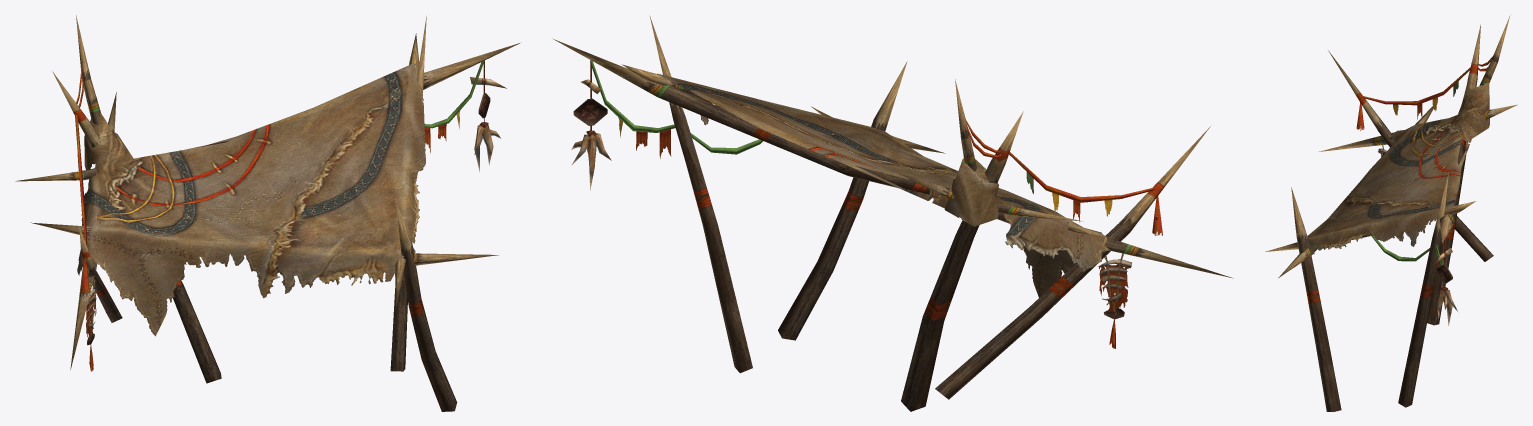
File: 7001_Item_wujian_06.FBX
The picture shows the model from 3 angles, left to right: view 1: azimuth 30°, elevation 25°; view 2: azimuth 150°, elevation 25°; view 3: azimuth 270°, elevation 25°; orthographic projection. The views are drawn at different scales.
Visible parts, largest first — view 1: 7001_Item_wujian_06; view 2: 7001_Item_wujian_06; view 3: 7001_Item_wujian_06.
Part boxes in pixels (<box>): 7001_Item_wujian_06: <box>15,15,521,411</box>; 7001_Item_wujian_06: <box>552,16,1232,411</box>; 7001_Item_wujian_06: <box>1265,15,1517,411</box>.
Size of the model in its own units: 265 by 180 by 140.
